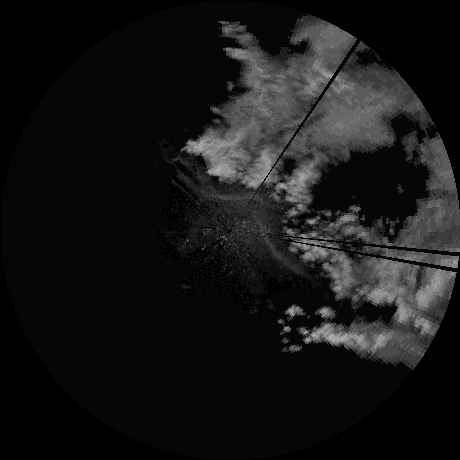frontgust: (177, 164, 268, 203), (256, 213, 301, 277)
